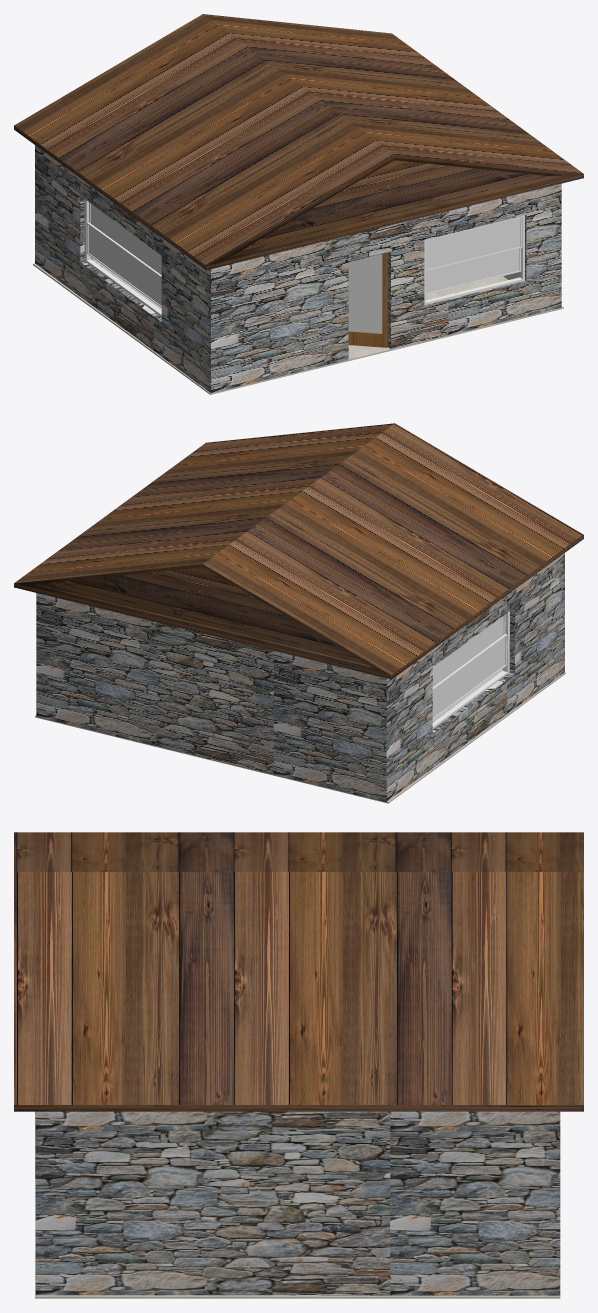
File: room.gltf
The picture shows the model from 3 angles, top to bottom: view 1: azimuth 30°, elevation 25°; view 2: azimuth 150°, elevation 25°; view 3: azimuth 270°, elevation 25°; orthographic projection. The views are drawn at different scales.
Visible parts, largest first — view 1: wall001, roofLeft, roofRight, roofFrontBack, SlidingWindow002, SlidingWindow001, PivotDoor001, floor; view 2: wall001, roofLeft, roofRight, roofFrontBack, SlidingWindow001, floor; view 3: roofRight, wall001, roofLeft, roofFrontBack, floor.
Part boxes in pixels (x1,y1,x2,y2): wall001: (35, 145, 561, 393); roofLeft: (14, 14, 394, 265); roofRight: (203, 14, 582, 173); roofFrontBack: (14, 33, 583, 270); SlidingWindow002: (424, 215, 524, 305); SlidingWindow001: (84, 199, 161, 316); PivotDoor001: (348, 252, 387, 347); floor: (33, 258, 563, 394); wall001: (36, 553, 564, 802); roofLeft: (203, 423, 583, 675); roofRight: (15, 423, 394, 583); roofFrontBack: (14, 443, 583, 679); SlidingWindow001: (432, 611, 509, 729); floor: (35, 669, 565, 803); roofRight: (14, 872, 583, 1104); wall001: (35, 1111, 560, 1295); roofLeft: (14, 832, 583, 871); roofFrontBack: (14, 1105, 583, 1111); floor: (35, 1112, 560, 1298).
Size of the model in its own units: 8.99 by 4.59 by 7.92.
